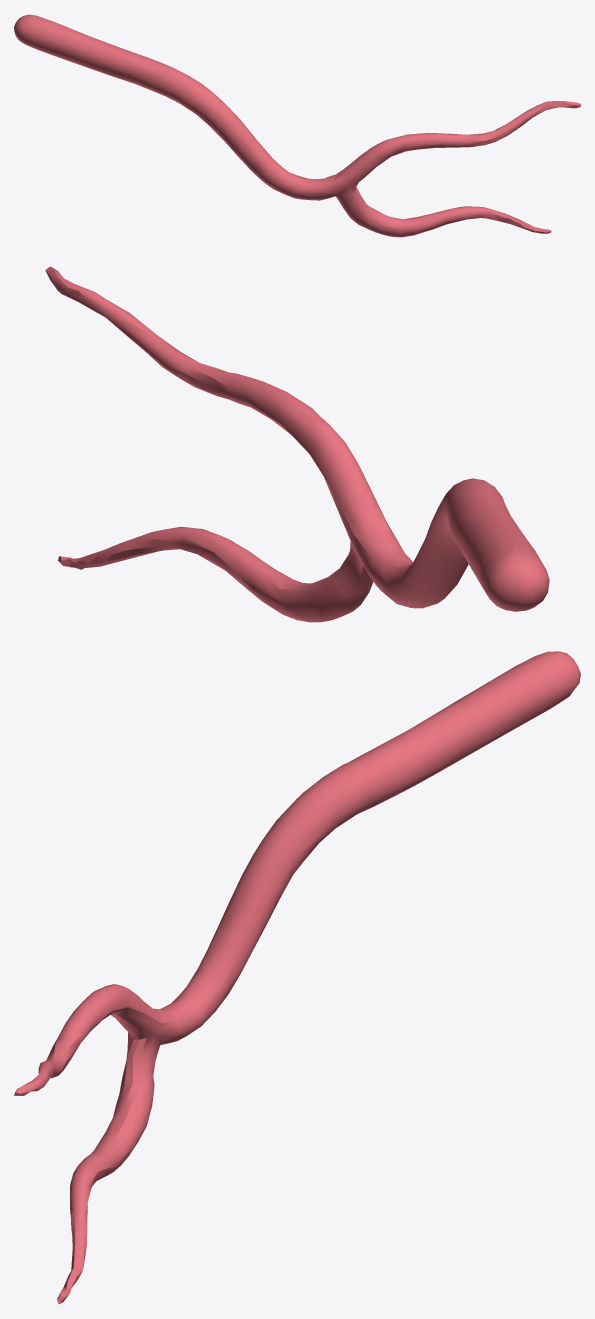
The model's file is fma76767_mm446.glb.
3 renders of one model, top to bottom at view 1: azimuth 30°, elevation 25°; view 2: azimuth 150°, elevation 25°; view 3: azimuth 270°, elevation 25°, orthographic. The views are drawn at different scales.
Visible parts, largest first — view 1: FMA76767_MM446; view 2: FMA76767_MM446; view 3: FMA76767_MM446.
Boxes of the visible parts, left/top/right/bottom form: FMA76767_MM446: left=14, top=14, right=580, bottom=237; FMA76767_MM446: left=45, top=266, right=549, bottom=622; FMA76767_MM446: left=14, top=651, right=580, bottom=1304.
Size of the model in its own units: 0.042 by 0.0199 by 0.0299.
